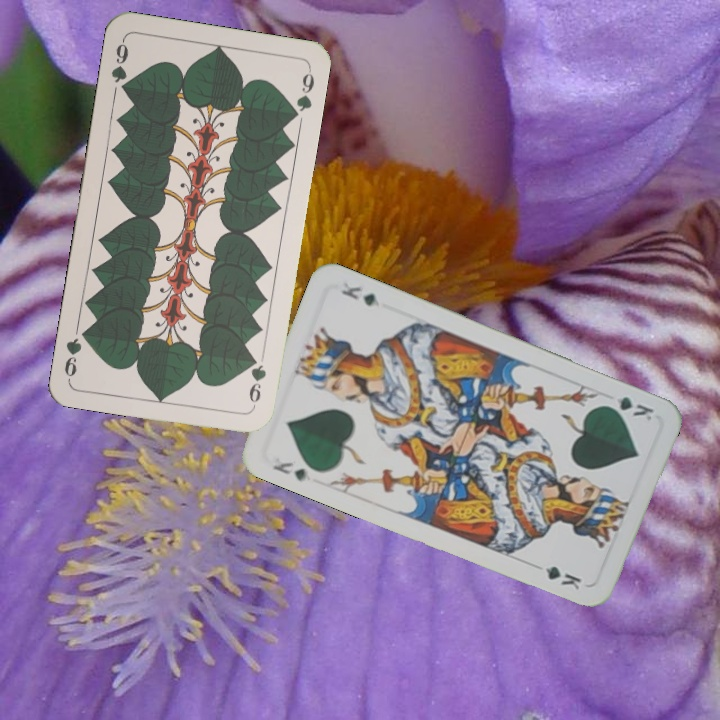G9: (107, 35, 131, 96), (245, 351, 269, 410)
GK: (599, 392, 656, 424), (269, 457, 309, 484)
